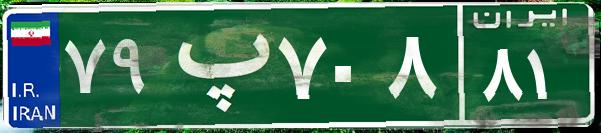0: (330, 28, 385, 110)
1: (525, 38, 570, 115)
7: (273, 28, 330, 110), (57, 26, 110, 107)
8: (385, 28, 445, 110), (475, 38, 525, 113)
9: (110, 28, 158, 105)
پ: (158, 15, 273, 115)
